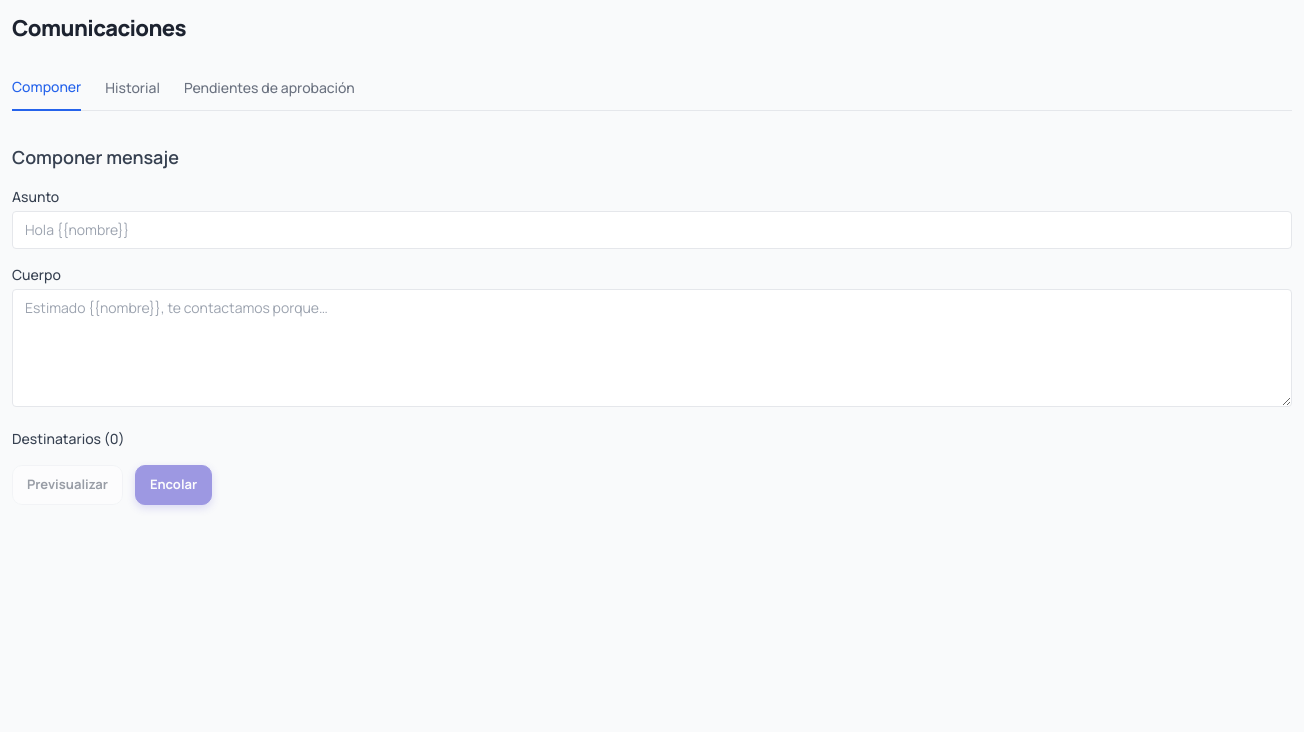
Test: ComunicacionesPage › restores compose form when switching back to Componer
Go to historial
Click the button with test id "tab-historial".
click(133, 94)  # box [105,77,160,111]
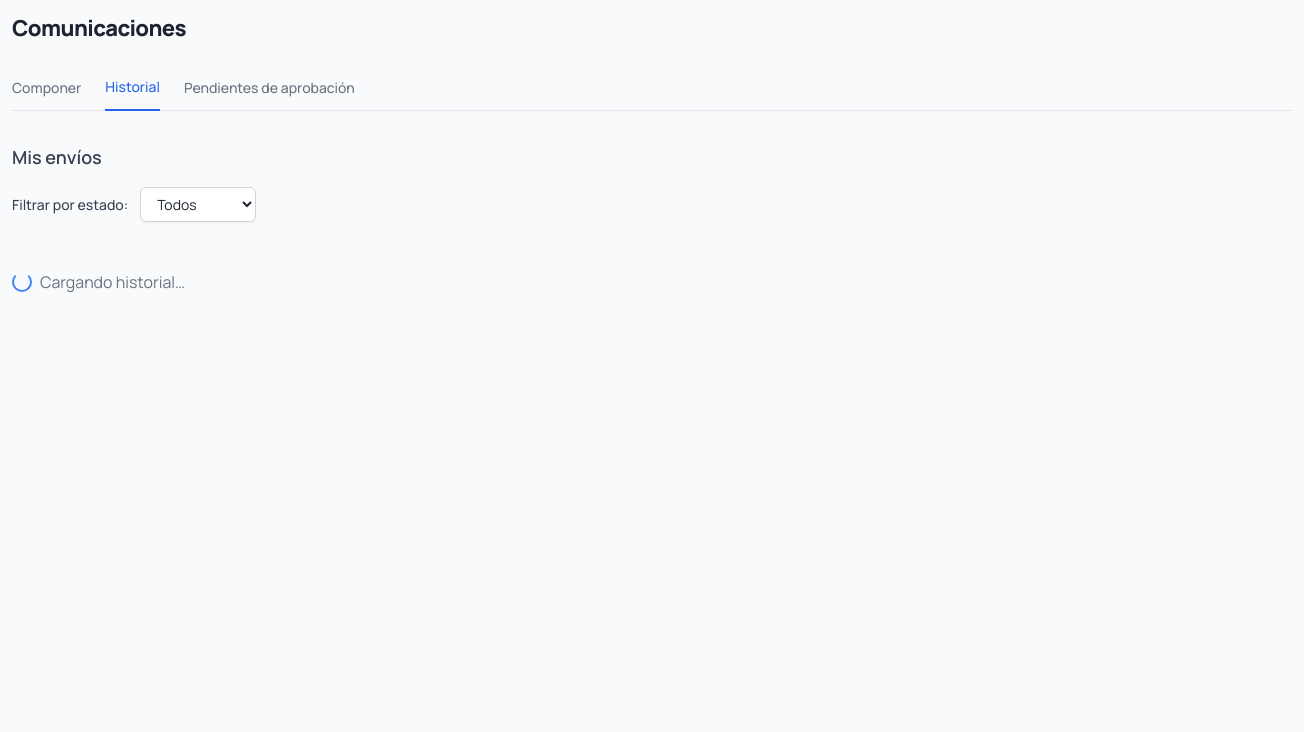
Expected: the element with test id "historial-panel" is shown, [12,187,256,293]
Go back to componer
Click the button with test id "tab-componer".
click(47, 94)  # box [12,77,81,111]
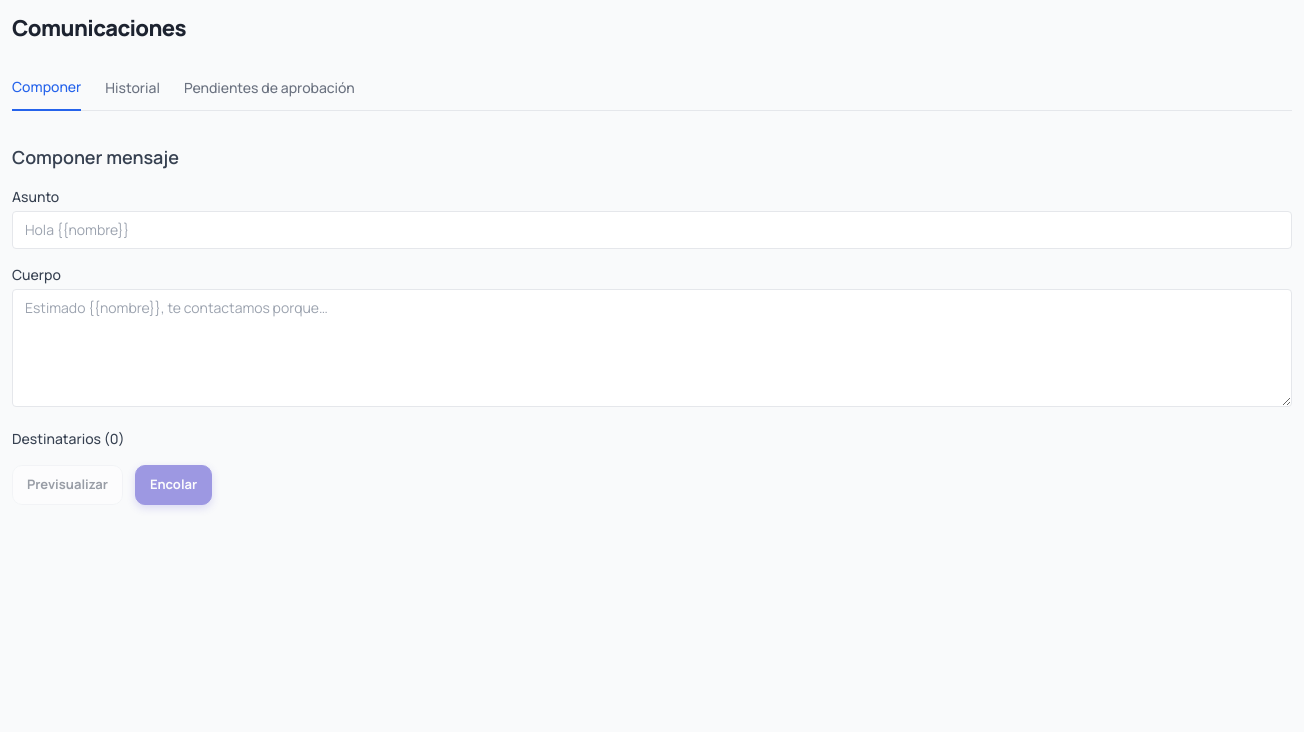
Expected: the form with test id "compose-form" is shown, [12,187,1292,504]
Expected: the element with test id "historial-panel" is gone
